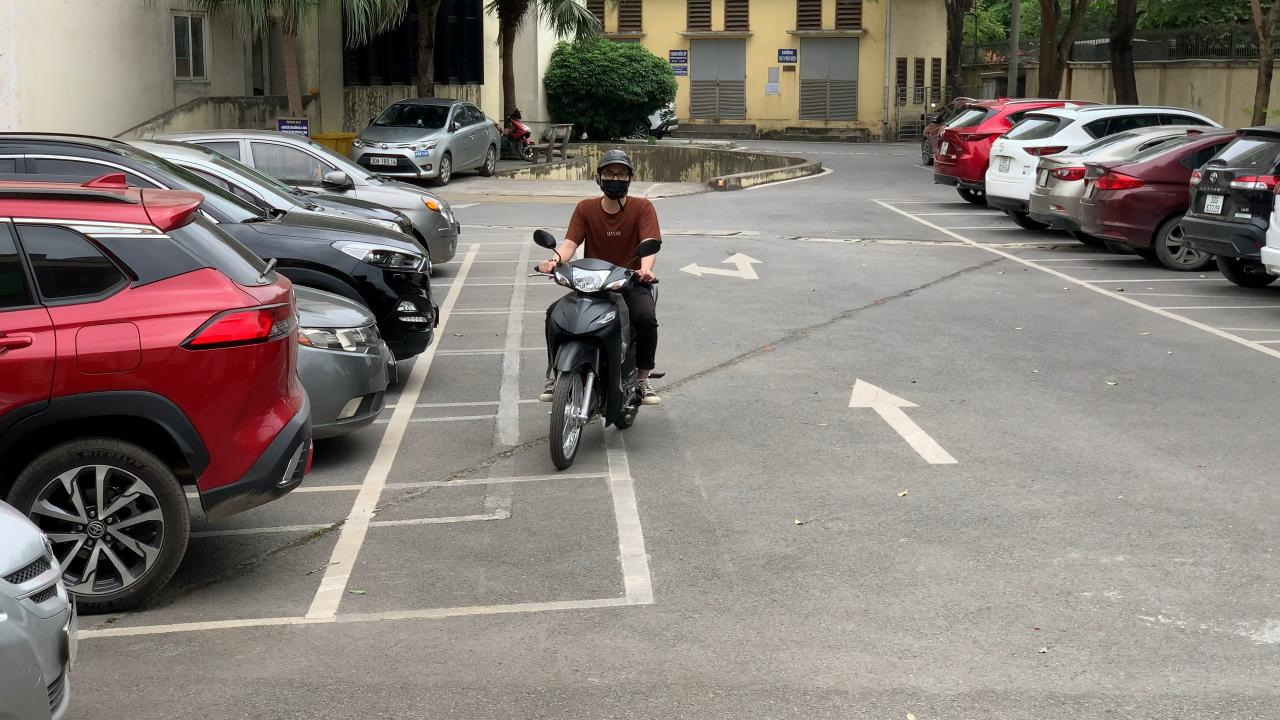helmet: (597, 148, 637, 171)
motorcyclist: (531, 149, 672, 470)
